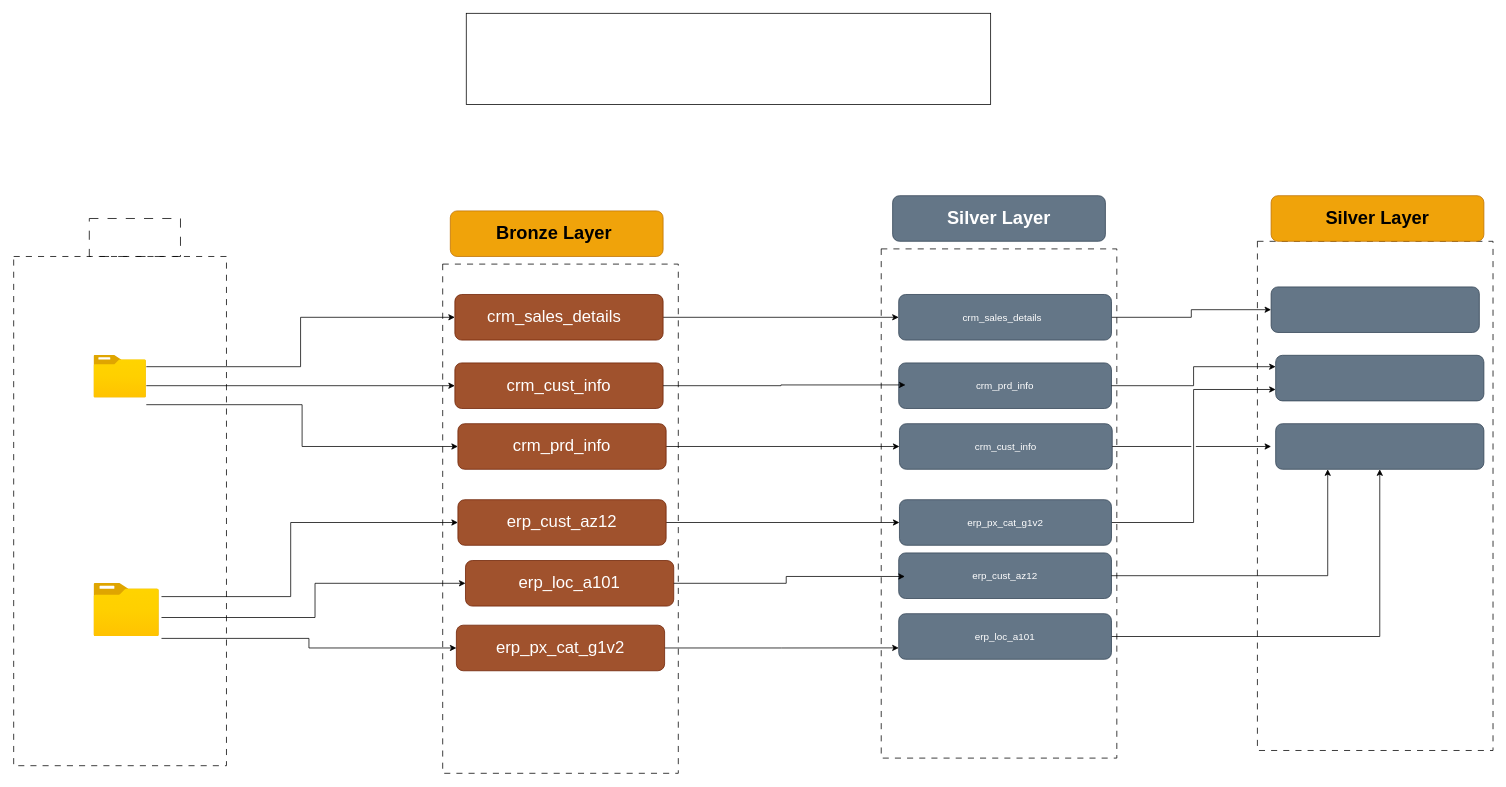
This 1506x787 diagram has some shape labels left out. The shapes that lost their labels are listed below. From the top down, each one's box as (x1, y1, x2, y2) in pixels, then its label:
(466, 13, 991, 104): DATA FLOW FLOW
(89, 218, 180, 256): Sources
(1270, 286, 1479, 332): fact_sales
(93, 355, 146, 397): CRM
(1275, 355, 1484, 401): dim_products
(1275, 423, 1484, 469): dim_customer
(93, 583, 159, 636): ERP
